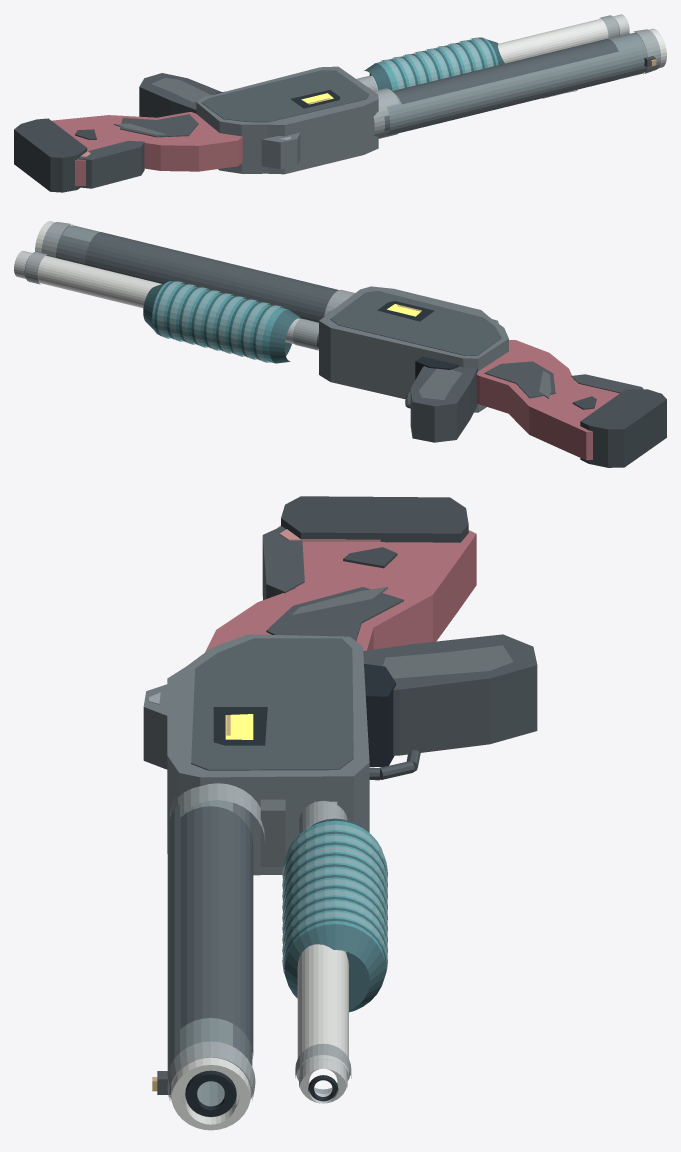
The model's file is Reference_Shotgun_3D_Model.glb.
3 renders of one model, top to bottom at view 1: azimuth 30°, elevation 25°; view 2: azimuth 150°, elevation 25°; view 3: azimuth 270°, elevation 25°, orthographic. The views are drawn at different scales.
Visible parts, largest first — view 1: RECEIVER_MainCasting, BARREL_TopTubeHighlight, STOCK_RedFrame, RECEIVER_SideInset, BARREL_TopRidge, STOCK_ButtRubber, TUBE_FrontPolish, STOCK_TopRubberComb, GRIP_PistolMain, PUMP_SleeveCore, RECEIVER_RearSightHousing, STOCK_DarkInsetPanel (+6 smaller); view 2: BARREL_TopRidge, RECEIVER_MainCasting, STOCK_RedFrame, RECEIVER_SideInset, STOCK_ButtRubber, GRIP_PistolMain, TUBE_FrontPolish, PUMP_SleeveCore, STOCK_DarkInsetPanel, PUMP_RearBevel, GRIP_RubberInset, BARREL_UpperLongTube (+17 smaller); view 3: RECEIVER_SideInset, BARREL_TopRidge, STOCK_RedFrame, GRIP_PistolMain, RECEIVER_MainCasting, STOCK_ButtRubber, BARREL_TopTubeHighlight, TUBE_FrontPolish, PUMP_SleeveCore, PUMP_FrontTaper, STOCK_DarkInsetPanel, GRIP_RubberInset (+10 smaller).
Boxes of the visible parts, bbox=[...] form: RECEIVER_MainCasting: bbox=[196, 66, 378, 174]; BARREL_TopTubeHighlight: bbox=[386, 33, 647, 135]; STOCK_RedFrame: bbox=[52, 112, 242, 185]; RECEIVER_SideInset: bbox=[201, 70, 369, 122]; BARREL_TopRidge: bbox=[392, 38, 618, 132]; STOCK_ButtRubber: bbox=[14, 118, 87, 192]; TUBE_FrontPolish: bbox=[498, 19, 608, 63]; STOCK_TopRubberComb: bbox=[78, 140, 144, 188]; GRIP_PistolMain: bbox=[139, 73, 220, 117]; PUMP_SleeveCore: bbox=[376, 37, 498, 90]; RECEIVER_RearSightHousing: bbox=[261, 132, 300, 169]; STOCK_DarkInsetPanel: bbox=[120, 114, 198, 137]; BARREL_TopRidge: bbox=[85, 232, 338, 322]; RECEIVER_MainCasting: bbox=[319, 286, 508, 412]; STOCK_RedFrame: bbox=[476, 340, 619, 460]; RECEIVER_SideInset: bbox=[330, 290, 501, 355]; STOCK_ButtRubber: bbox=[580, 389, 666, 467]; GRIP_PistolMain: bbox=[410, 366, 477, 442]; TUBE_FrontPolish: bbox=[37, 255, 161, 307]; PUMP_SleeveCore: bbox=[152, 281, 287, 363]; STOCK_DarkInsetPanel: bbox=[484, 361, 555, 398]; PUMP_RearBevel: bbox=[269, 309, 300, 363]; GRIP_RubberInset: bbox=[418, 368, 462, 400]; BARREL_UpperLongTube: bbox=[56, 225, 89, 264]; RECEIVER_SideInset: bbox=[191, 638, 353, 770]; BARREL_TopRidge: bbox=[180, 806, 253, 1058]; STOCK_RedFrame: bbox=[205, 525, 476, 652]; GRIP_PistolMain: bbox=[363, 634, 537, 755]; RECEIVER_MainCasting: bbox=[167, 634, 369, 875]; STOCK_ButtRubber: bbox=[281, 496, 468, 542]; BARREL_TopTubeHighlight: bbox=[167, 800, 236, 1106]; TUBE_FrontPolish: bbox=[297, 944, 348, 1076]; PUMP_SleeveCore: bbox=[284, 820, 385, 968]; PUMP_FrontTaper: bbox=[284, 924, 385, 1012]; STOCK_DarkInsetPanel: bbox=[266, 587, 403, 641]; GRIP_RubberInset: bbox=[383, 645, 513, 678].
Bounding box in the file's own units: 10.21 × 0.8935 × 2.98.
